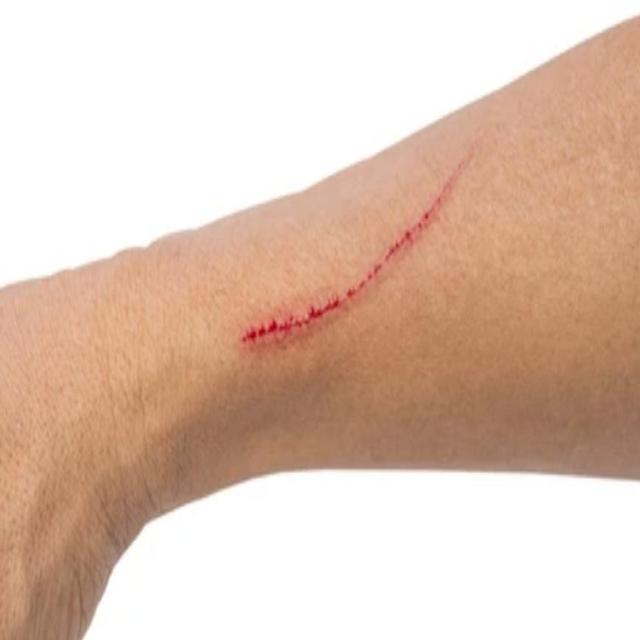Cut: (228, 216, 489, 296)
